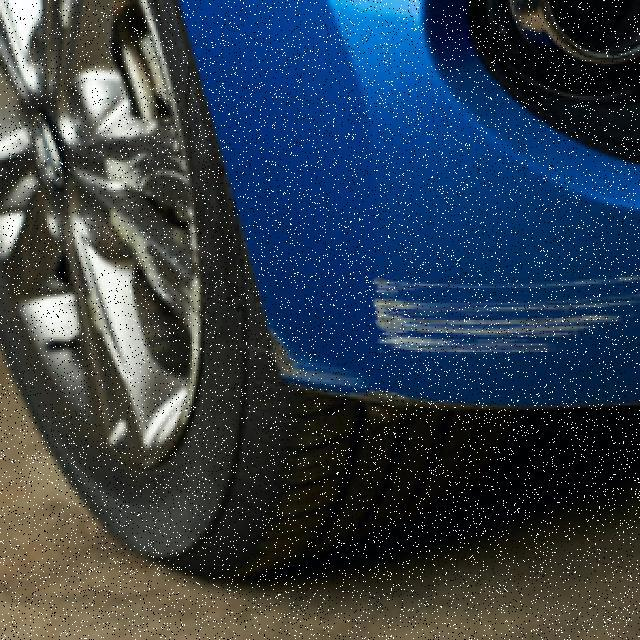front-bumper-dent: (211, 2, 638, 418)
